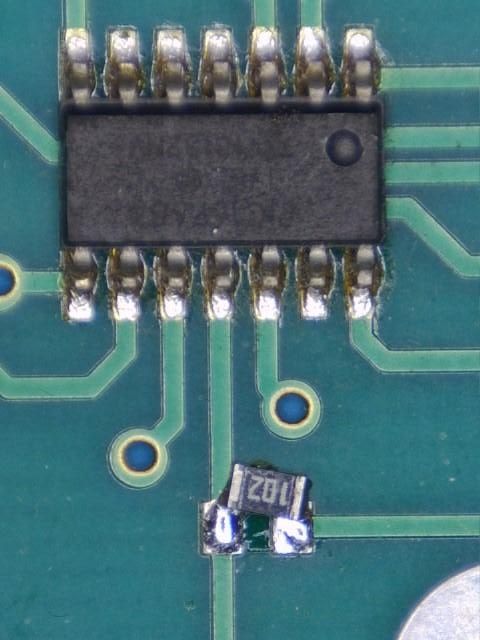pcb_defect: (197, 462, 316, 556)
